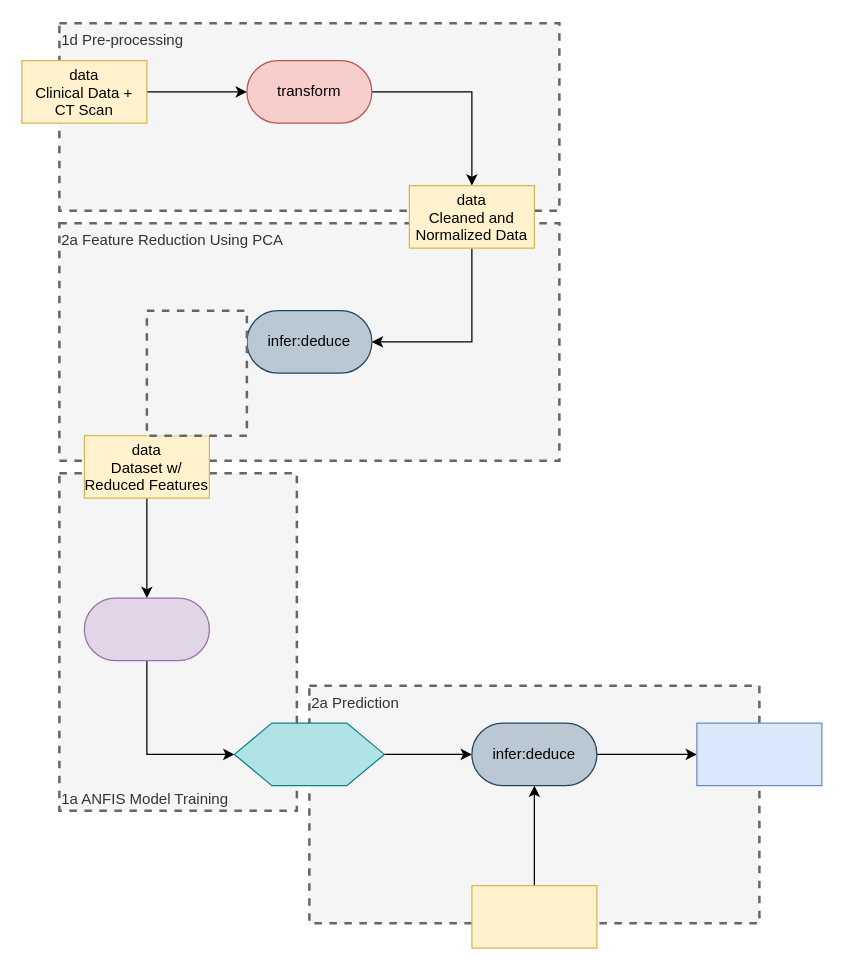
Some shapes in this 846 by 970 pixel diagram are drawn without their labels. The shapes that lost their labels are listed below. From the top down, each one's box as (x1, y1, x2, y2) in pixels, then its label:
(145, 309, 248, 436): error -- | v
(83, 597, 209, 661): generate:train
(233, 722, 384, 786): model:hybrid ANFIS
(696, 722, 822, 786): symbol Predicted Infraction Volume Growth
(471, 884, 597, 948): data Patient Data + CT Scan
